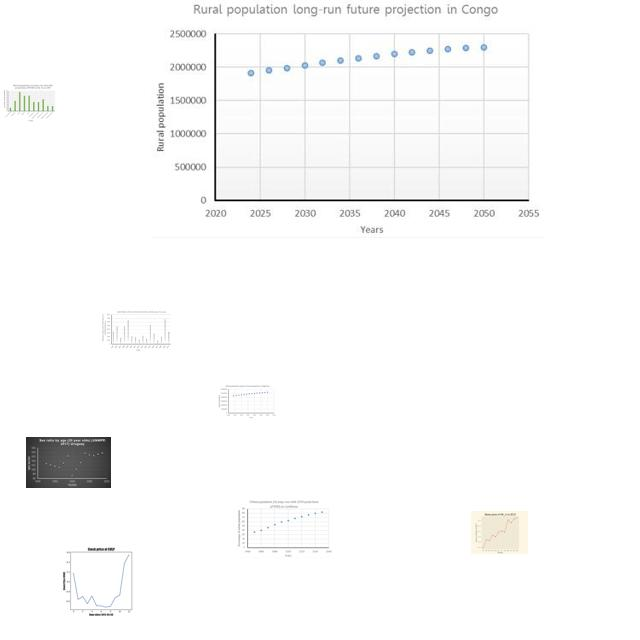Graph: (151, 0, 545, 238), (50, 543, 150, 618), (236, 499, 333, 558), (26, 437, 111, 488), (101, 310, 172, 352), (471, 511, 528, 554), (216, 384, 277, 420), (3, 84, 56, 122)
